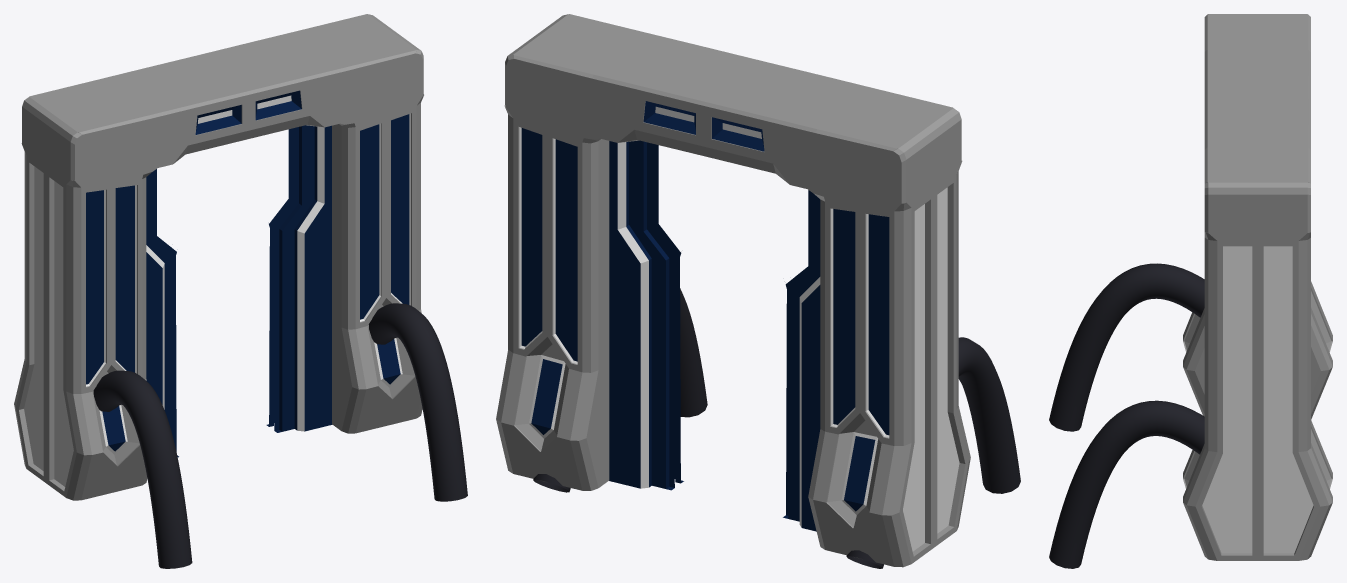
File: puerta2.fbx
3 views of the same model, side by side, from view 1: azimuth 30°, elevation 25°; view 2: azimuth 150°, elevation 25°; view 3: azimuth 270°, elevation 25° (orthographic). The views are drawn at different scales.
Parts seen in each view (by area): view 1: Cube.001, Plane, NurbsPath, NurbsPath.002; view 2: Cube.001, Plane, NurbsPath.002, NurbsPath; view 3: Cube.001, NurbsPath.002, NurbsPath.
Part boxes in pixels (bbox=[...]): Cube.001: bbox=[14, 14, 423, 500]; Plane: bbox=[146, 125, 332, 457]; NurbsPath: bbox=[368, 303, 467, 501]; NurbsPath.002: bbox=[93, 370, 192, 568]; Cube.001: bbox=[496, 14, 970, 567]; Plane: bbox=[609, 140, 820, 531]; NurbsPath.002: bbox=[846, 337, 1020, 568]; NurbsPath: bbox=[533, 288, 707, 492]; Cube.001: bbox=[1183, 14, 1332, 560]; NurbsPath.002: bbox=[1049, 263, 1204, 431]; NurbsPath: bbox=[1049, 400, 1204, 568].
Bounding box in the file's own units: 353 × 374 × 241.
